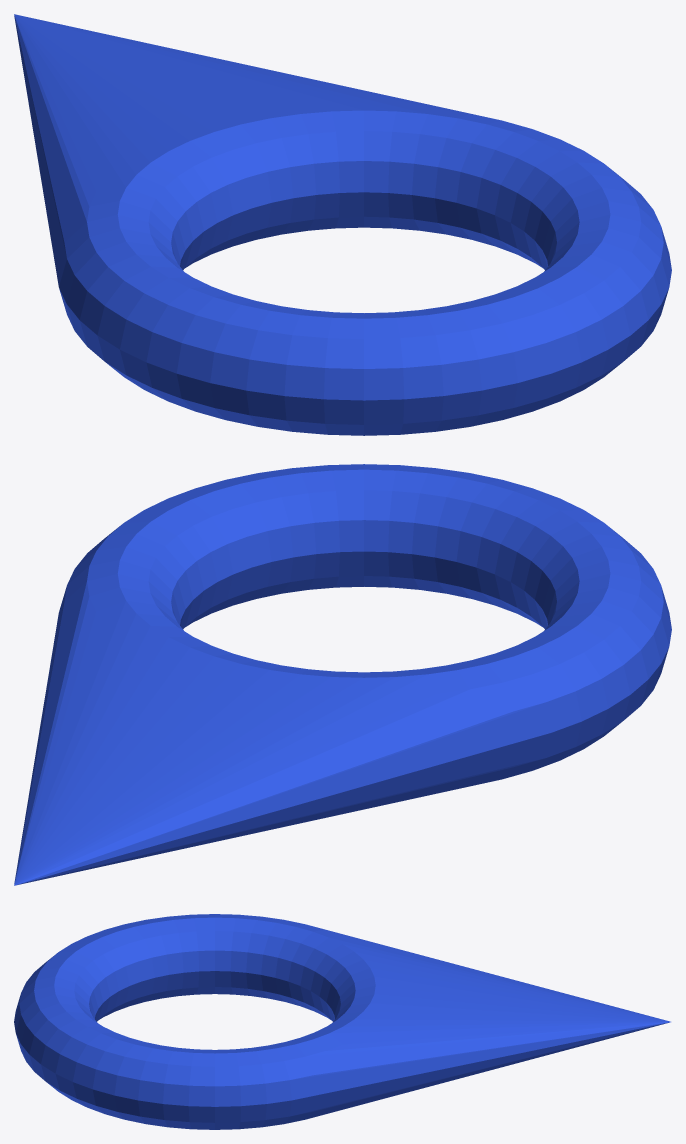
The model's file is 定位点.glb.
3 renders of one model, top to bottom at view 1: azimuth 30°, elevation 25°; view 2: azimuth 150°, elevation 25°; view 3: azimuth 270°, elevation 25°, orthographic. The views are drawn at different scales.
Parts seen in each view (by area): view 1: 环体; view 2: 环体; view 3: 环体.
Boxes of the visible parts, x1,y1,x2,y2 form: 环体: (14, 14, 671, 435); 环体: (14, 464, 671, 885); 环体: (14, 914, 670, 1129).
Size of the model in its own units: 2.5 by 0.5 by 4.09.
